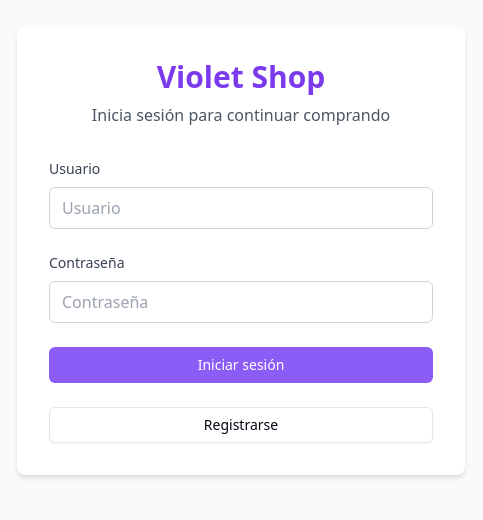
Login page › debería mostrar mensaje de error con credenciales inválidas
Type "usuarioInvalido" into the field with placeholder "Usuario" at (241, 208), box [49,187,433,229]
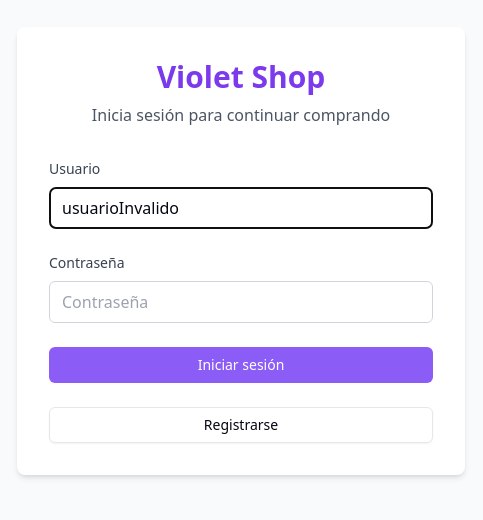
Type "passwordInvalido" into the password field with placeholder "Contraseña" at (241, 302), box [49,281,433,323]
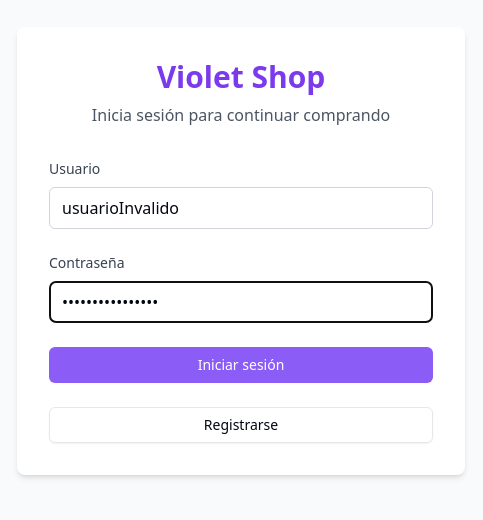
Click the button "Iniciar sesión" at (241, 365), box [49,347,433,383]
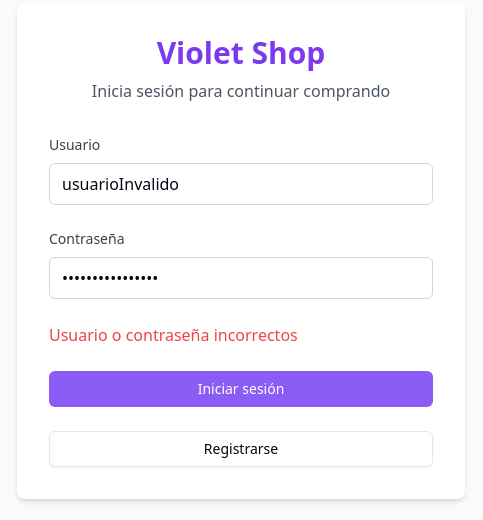
Expected: the text "Usuario o contraseña incorrectos" is shown, [49,324,298,346]
